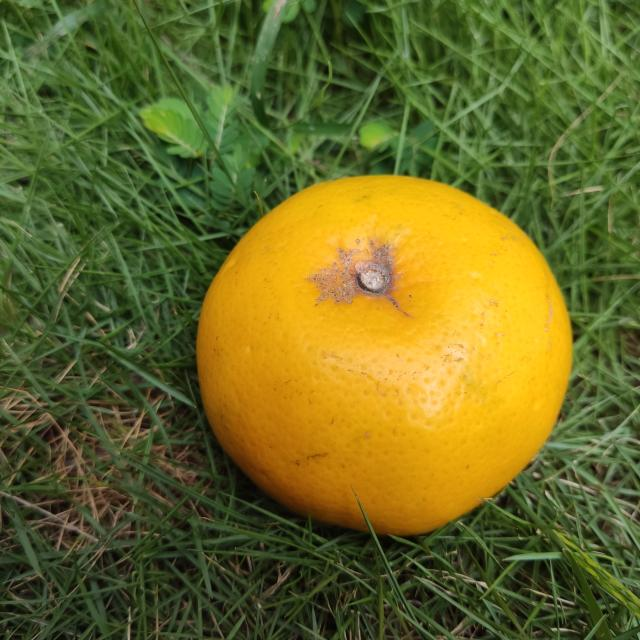orange: (194, 167, 578, 540)
